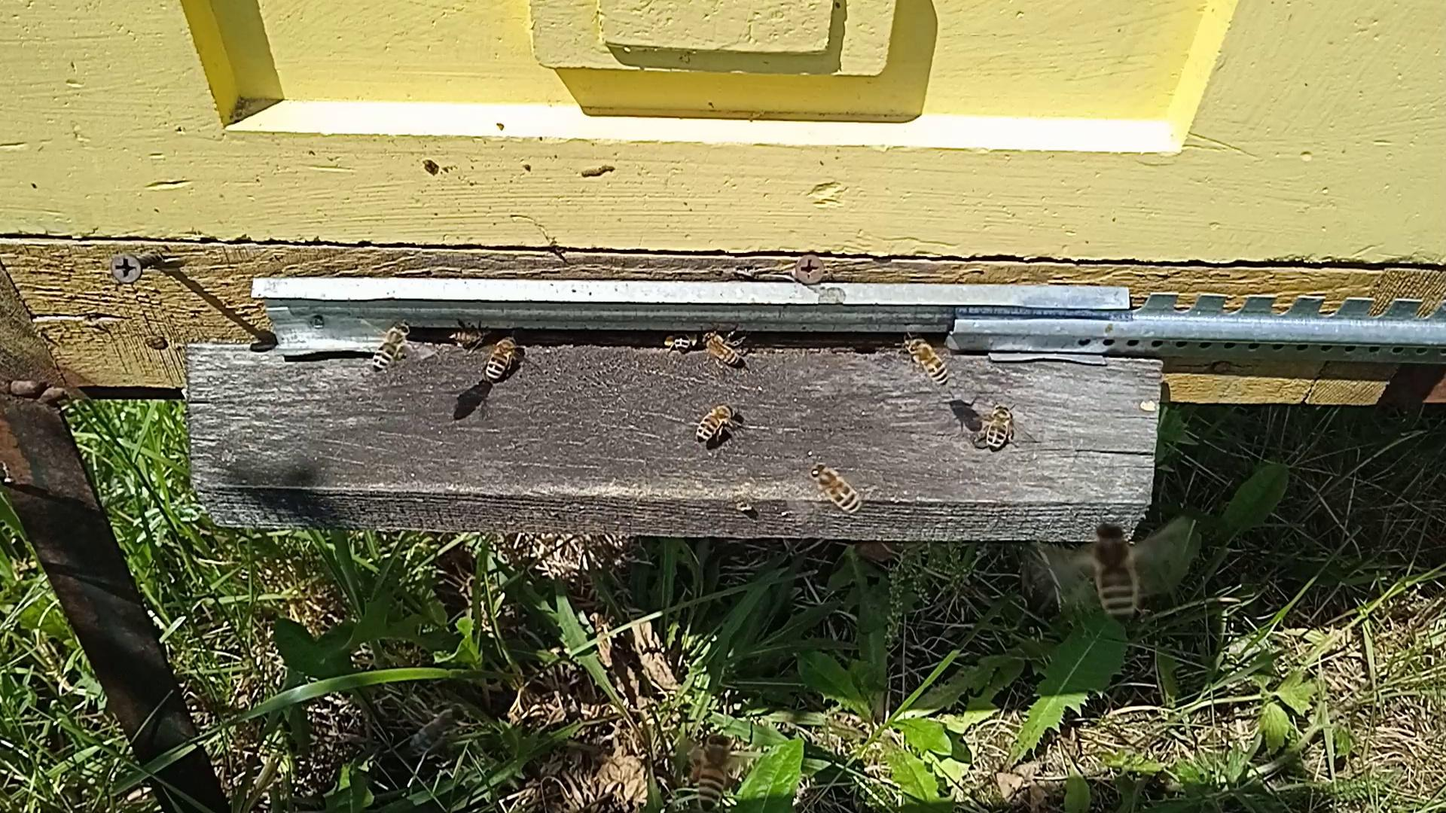worker-bee: (1088, 522, 1141, 622), (690, 732, 737, 811), (409, 708, 468, 753), (809, 463, 862, 513), (902, 333, 952, 386), (372, 318, 413, 373), (694, 400, 739, 445), (482, 334, 523, 382), (982, 401, 1015, 451), (701, 331, 745, 365), (447, 326, 488, 350), (660, 330, 700, 354)
